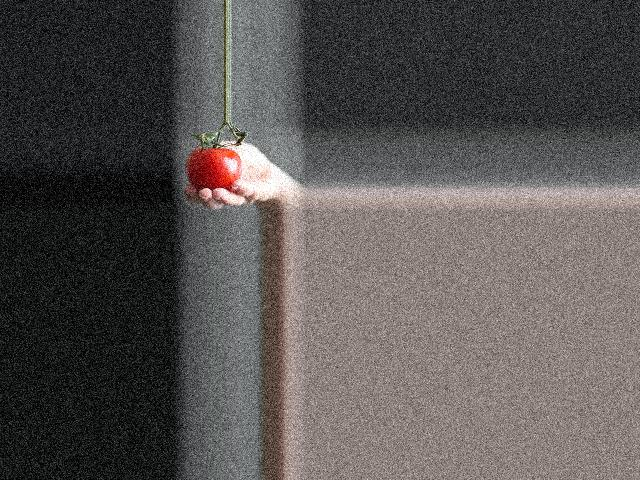tomato: (185, 146, 242, 190)
